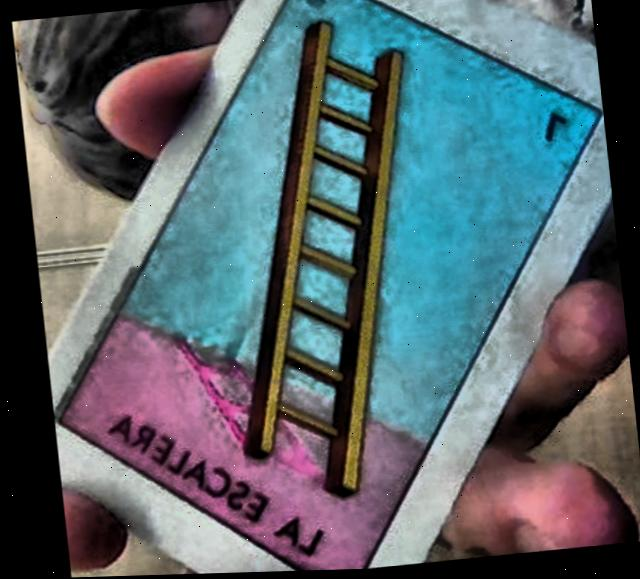La Escalera: (55, 0, 600, 572)
